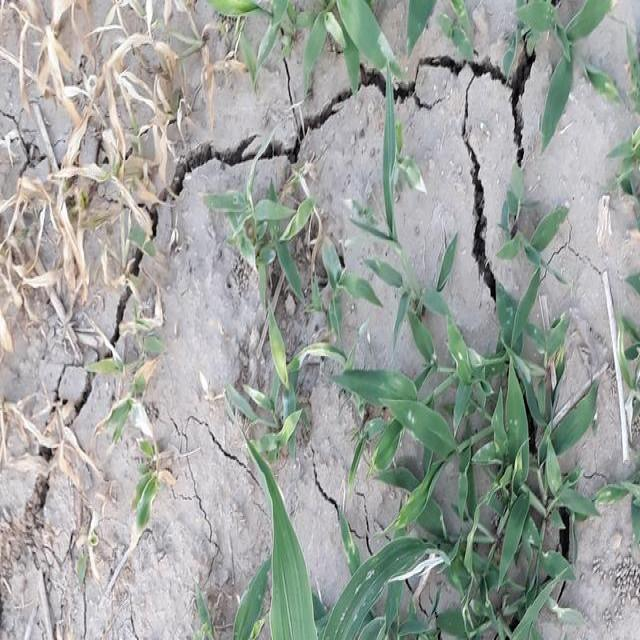weed: (339, 277, 586, 640)
